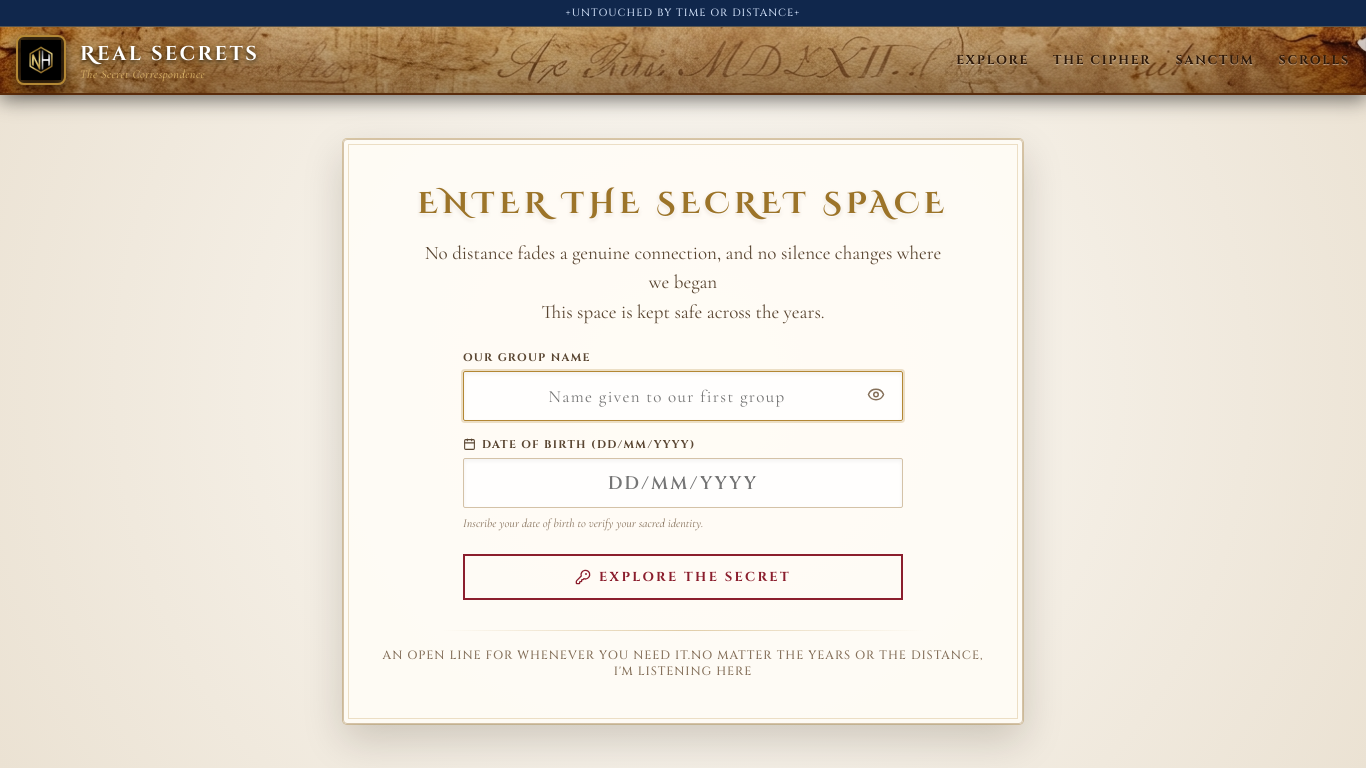
Test: Realsecrets Date-of-Birth Identity Flow › shows error if secret code is incorrect
The width and height of the screenshot is (1366, 768).
In the password field with id "secret-code-input": (683, 396) [463,371,903,421], type "wrongpass"
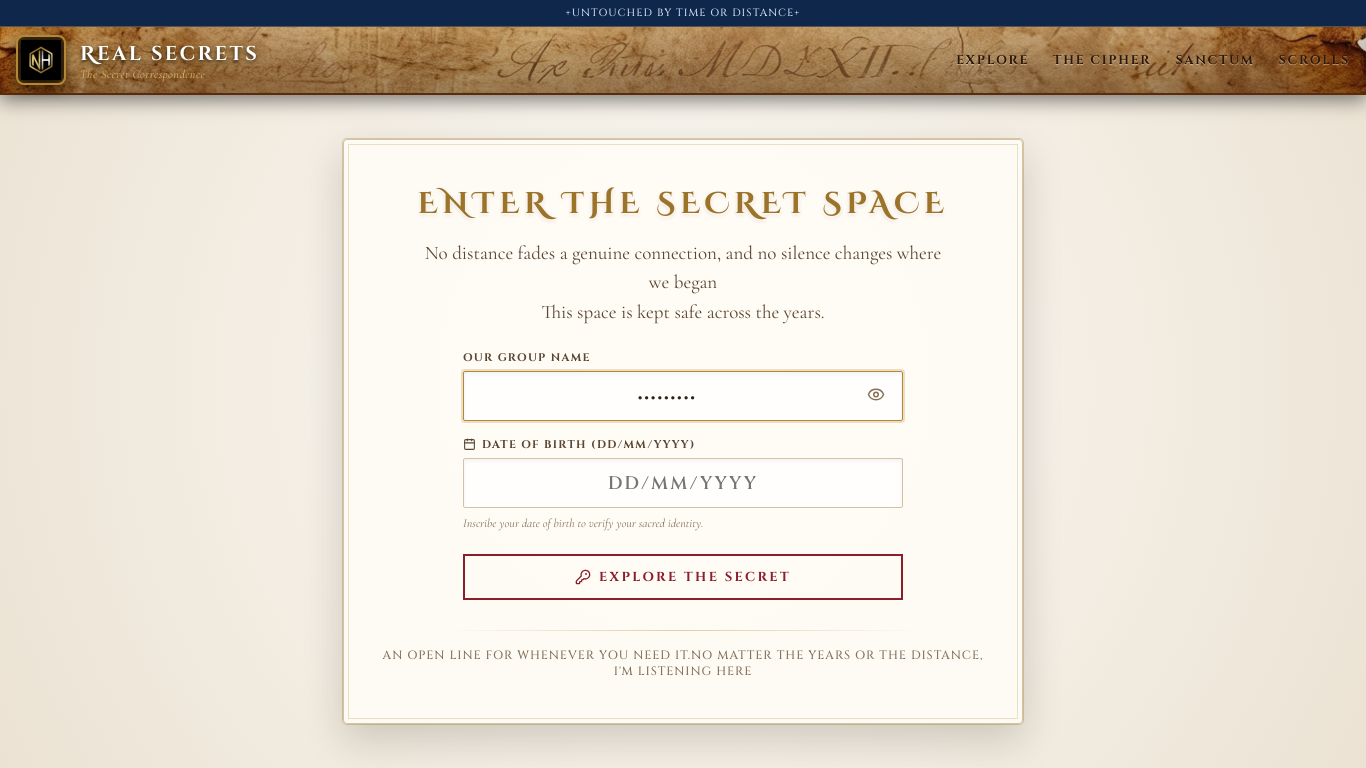
In the field with id "dob-input": (683, 483) [463,458,903,508], type "02/05/2007"
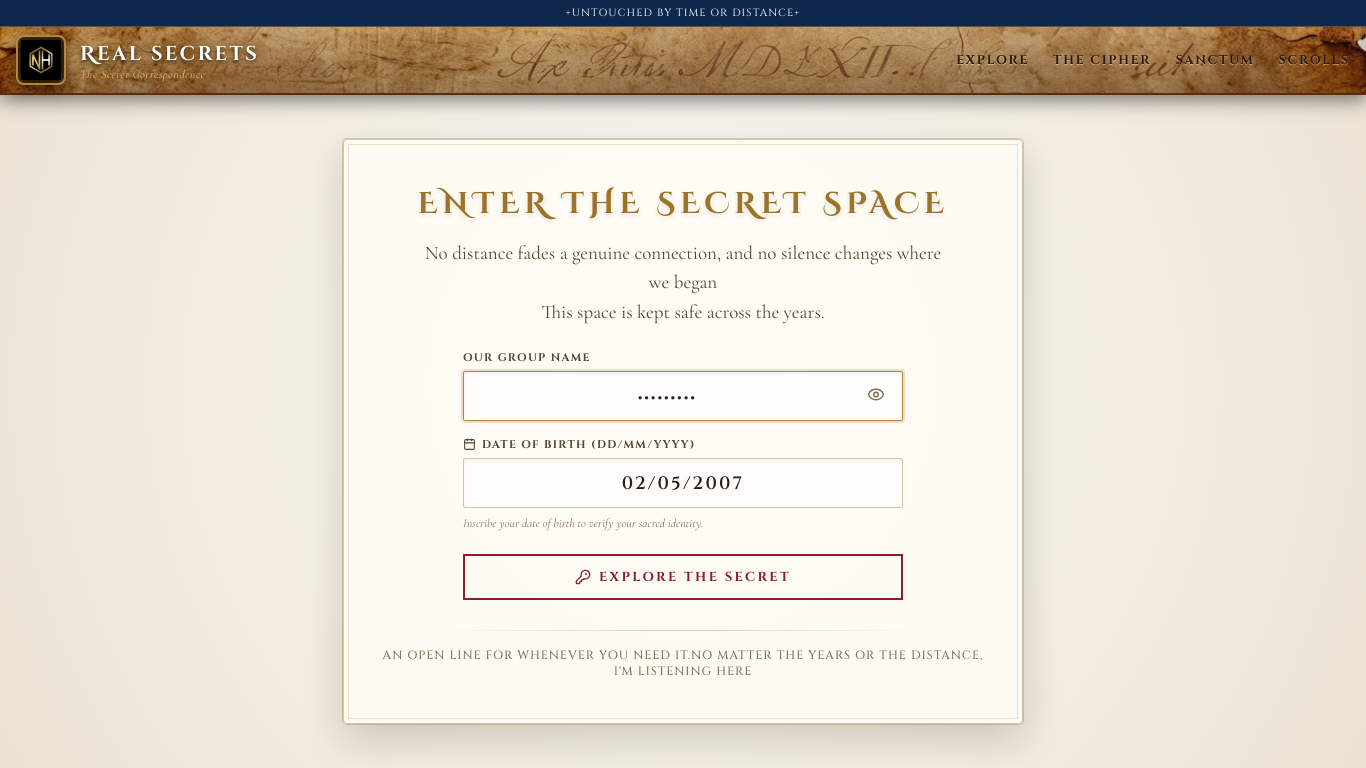
Click the button with id "continue-button": (683, 577) [463,554,903,600]
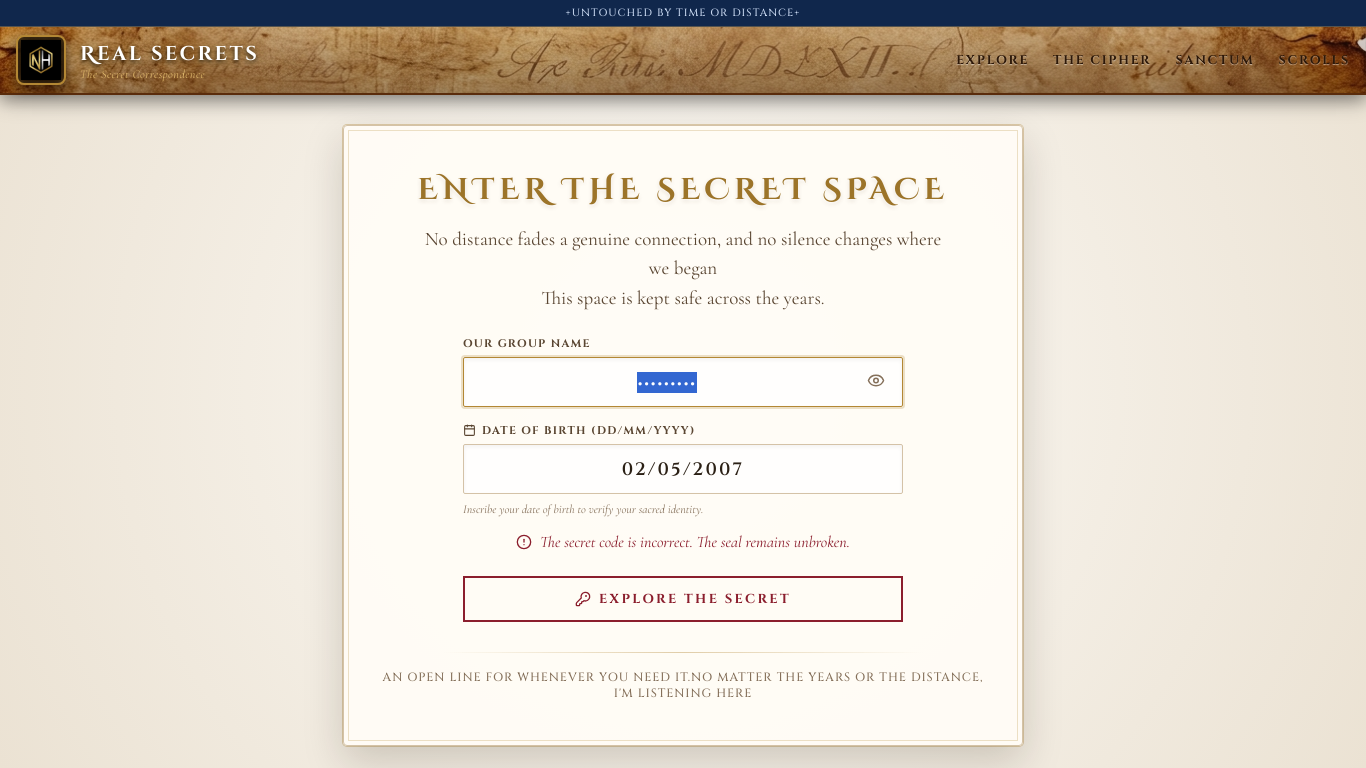
Check: the text "The secret code is incorrect. The seal remains unbroken." is shown, box [540,532,850,552]
